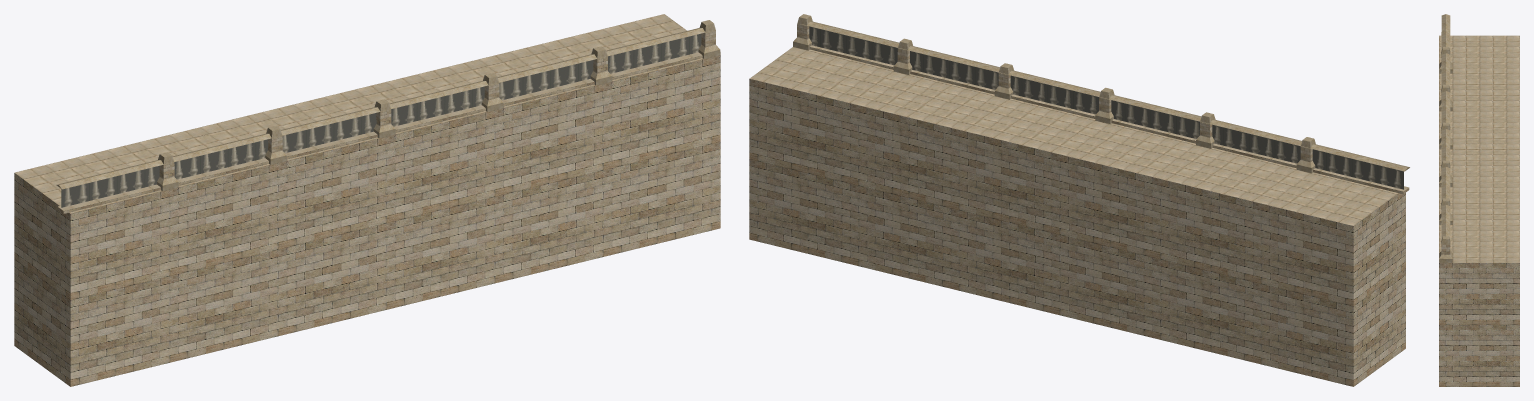
The model's file is thm_nboo_thed_imprv_seawall_straight_s01_3seg_l1.fbx.
3 renders of one model, left to right at view 1: azimuth 30°, elevation 25°; view 2: azimuth 150°, elevation 25°; view 3: azimuth 270°, elevation 25°, orthographic. The views are drawn at different scales.
Visible parts, largest first — view 1: mesh_node; view 2: mesh_node; view 3: mesh_node.
Boxes of the visible parts, <box> form: mesh_node: <box>14,14,720,386</box>; mesh_node: <box>749,14,1409,386</box>; mesh_node: <box>1439,14,1519,386</box>.
Bounding box in the file's own units: 24.24 × 7.2 × 3.6.
